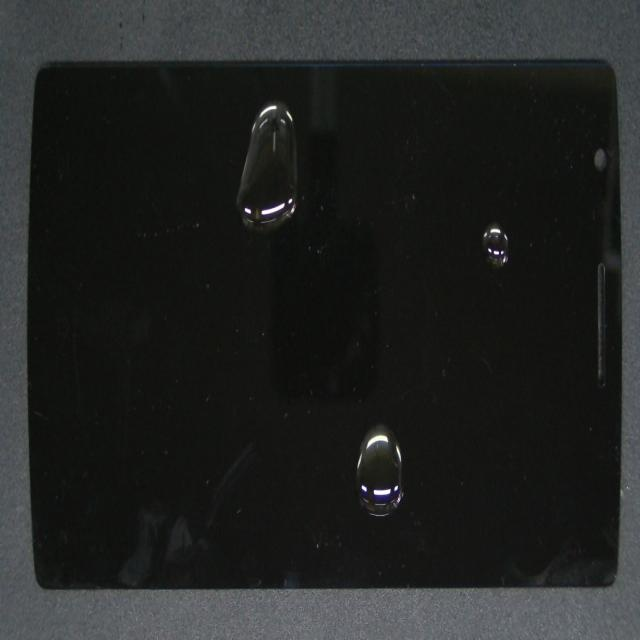oil: (216, 250, 596, 640), (239, 104, 640, 327), (154, 135, 454, 256)
